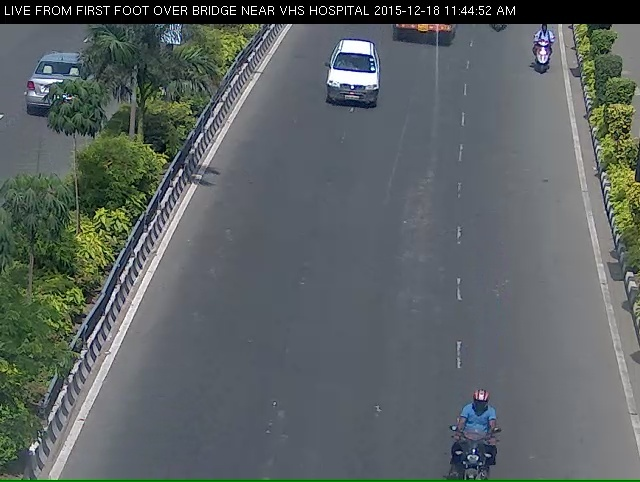Car: (315, 41, 387, 130)
Person: (529, 25, 559, 82)
